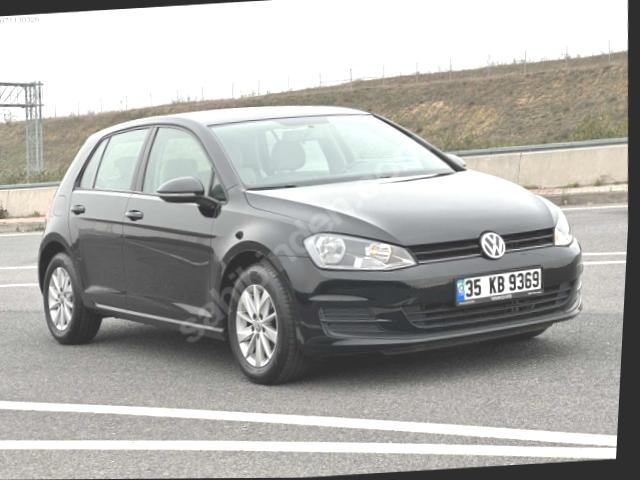plaka: (456, 268, 542, 305)
